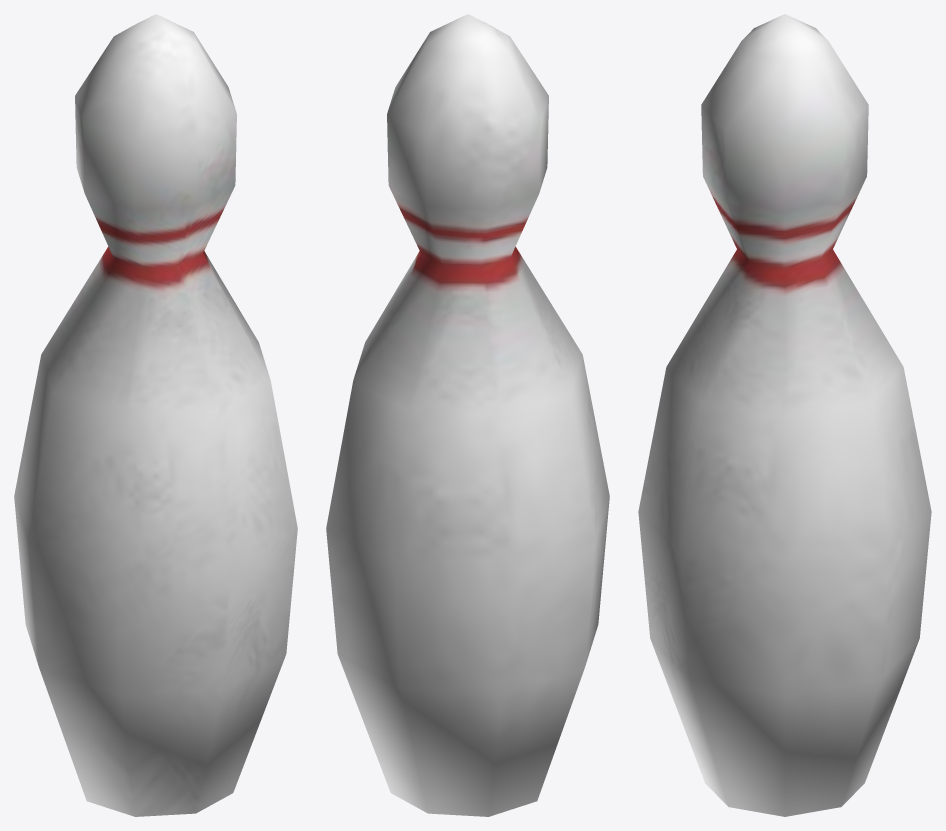
The model's file is pin.fbx.
3 renders of one model, left to right at view 1: azimuth 30°, elevation 25°; view 2: azimuth 150°, elevation 25°; view 3: azimuth 270°, elevation 25°, orthographic.
Visible parts, largest first — view 1: Cylinder; view 2: Cylinder; view 3: Cylinder.
Boxes of the visible parts, x1,y1,x2,y2 form: Cylinder: [14, 14, 297, 816]; Cylinder: [326, 14, 609, 816]; Cylinder: [638, 14, 931, 816].
Bounding box in the file's own units: 211 × 211 × 612.
